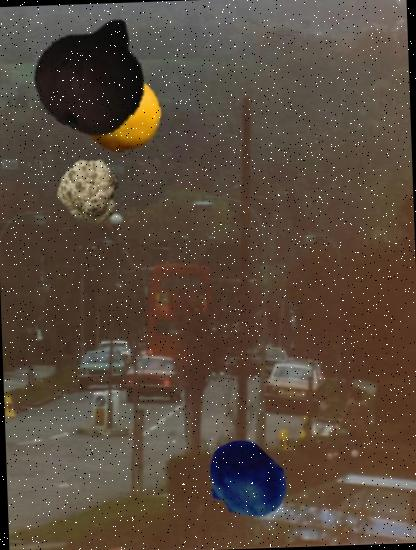Cauliflower: (57, 156, 125, 224)
Grapefruit: (80, 73, 163, 156)
Huckleberry: (202, 438, 290, 524)
Pear: (33, 12, 157, 136)
